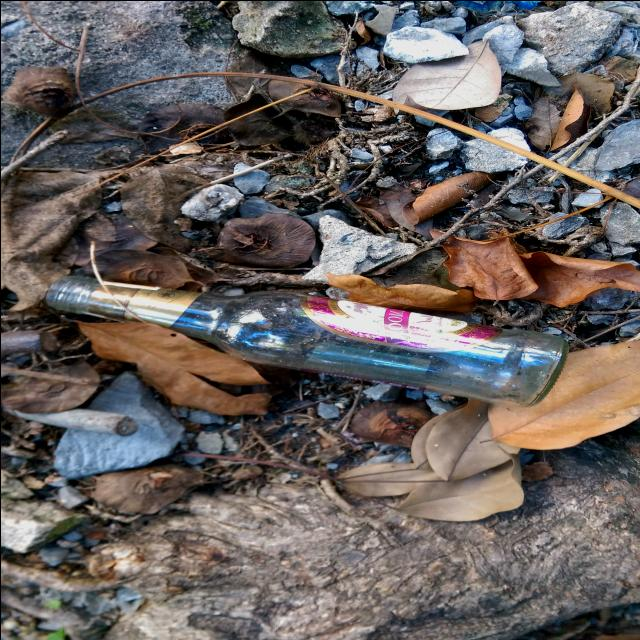Glass bottle: (45, 275, 568, 408)
